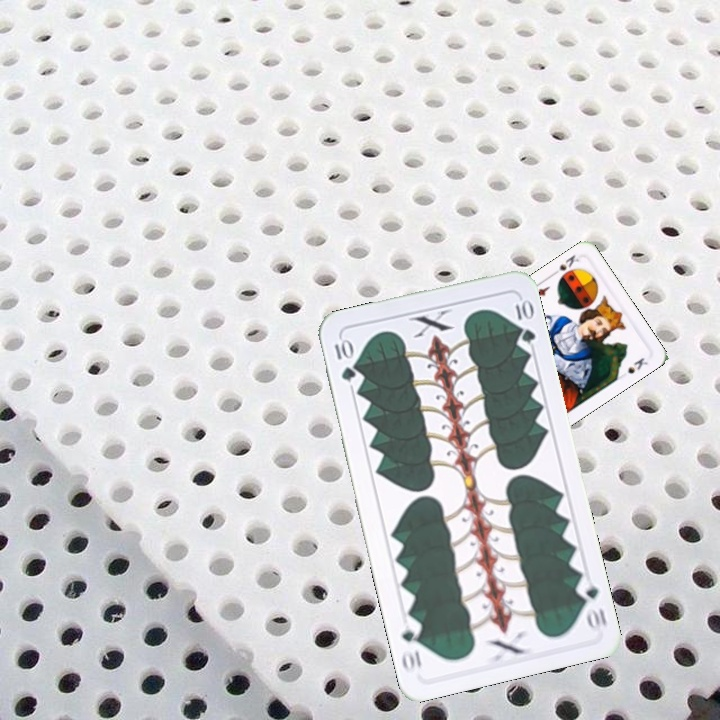G10: (573, 576, 609, 633), (330, 334, 359, 384)
SK: (548, 250, 582, 279)
